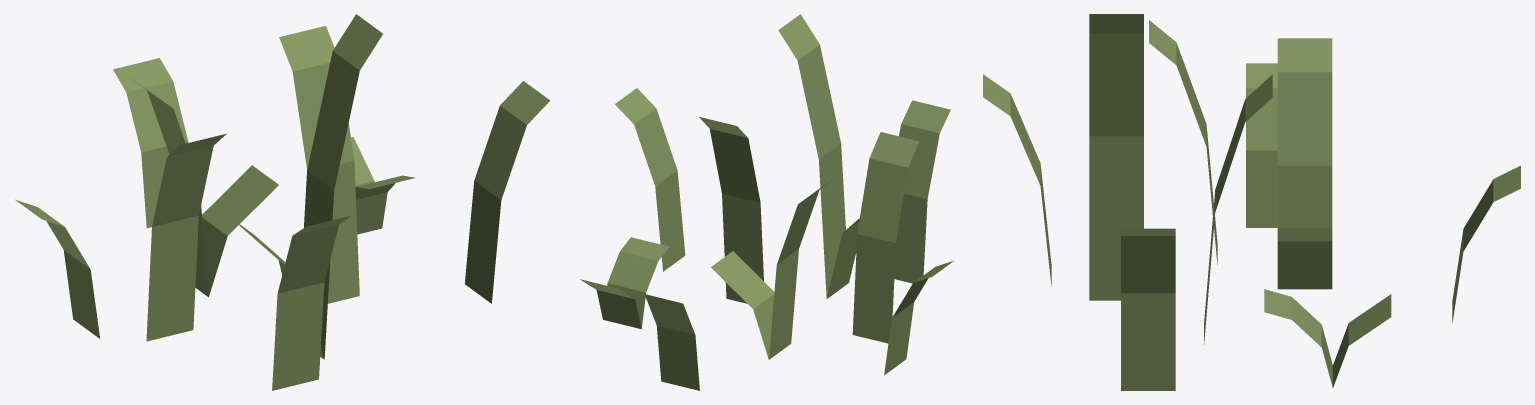
The model's file is grass.glb.
The picture shows the model from 3 angles, left to right: view 1: azimuth 30°, elevation 25°; view 2: azimuth 150°, elevation 25°; view 3: azimuth 270°, elevation 25°; orthographic projection. The views are drawn at different scales.
Parts seen in each view (by area): view 1: grass; view 2: grass; view 3: grass.
Boxes of the visible parts, left/top/right/bottom form: grass: left=15, top=14, right=550, bottom=390; grass: left=580, top=14, right=953, bottom=390; grass: left=983, top=14, right=1520, bottom=390.
Bounding box in the file's own units: 0.3811 × 0.254 × 0.3922.
